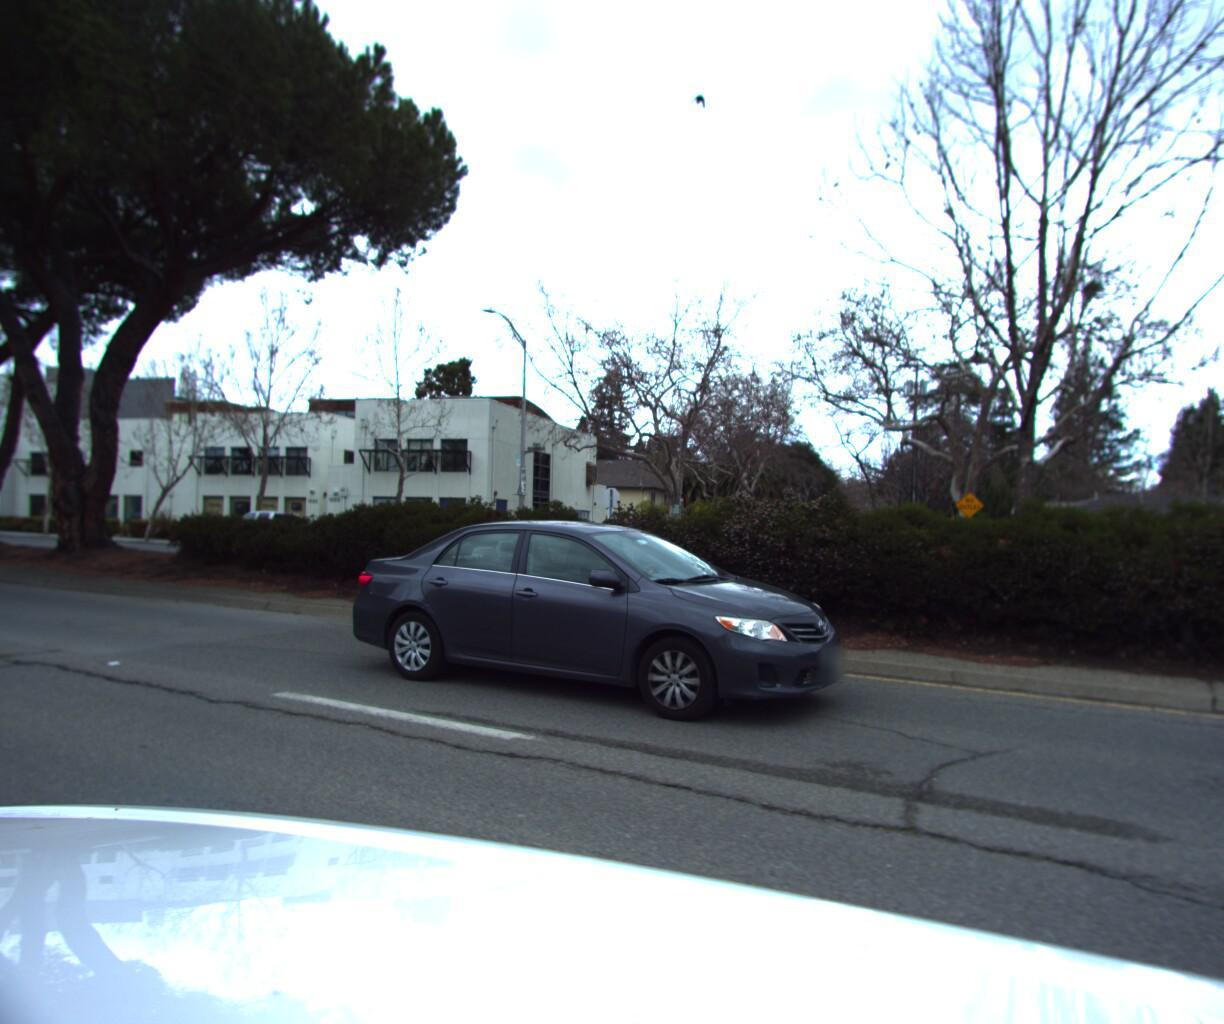car: (344, 514, 866, 734), (207, 513, 335, 559)
